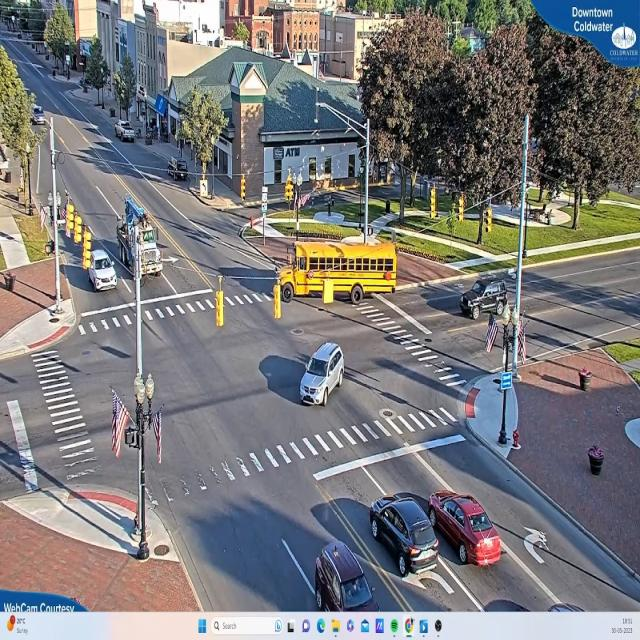bus: (268, 240, 396, 306)
car: (368, 493, 442, 577), (427, 491, 506, 568), (314, 542, 376, 610), (294, 341, 344, 408), (458, 275, 511, 325), (85, 245, 122, 294), (117, 122, 137, 145)
truck: (111, 192, 163, 278)
